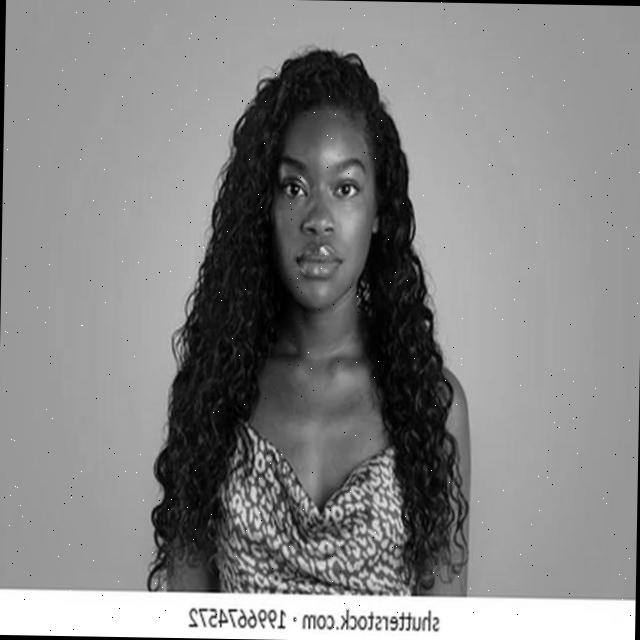Neutral: (272, 109, 376, 308)
